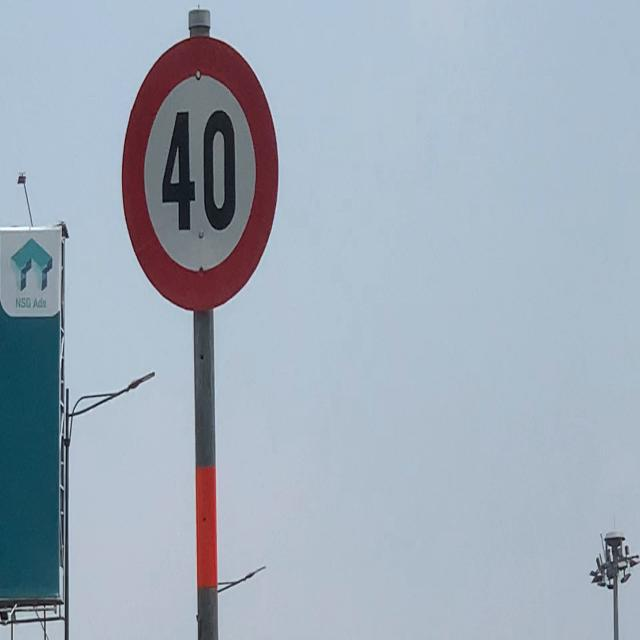Toc do toi da: (119, 36, 280, 314)
